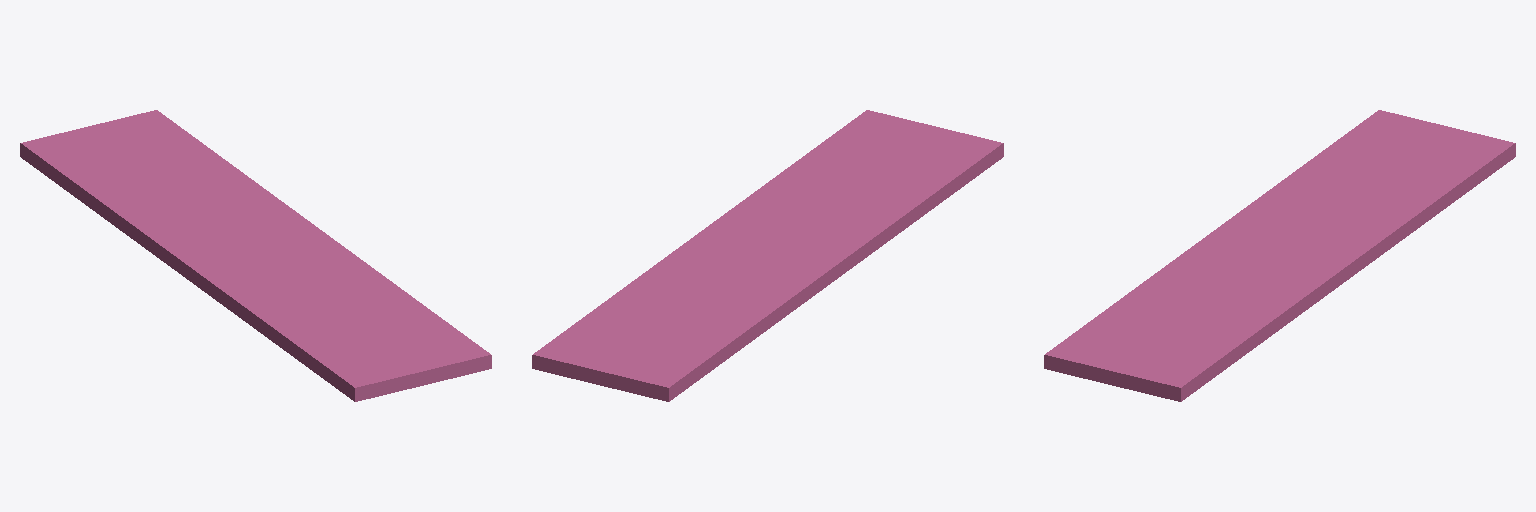
The robot description file, URDF, robot "robotiq_gripper":
<?xml version="1.0" ?>
<!-- =================================================================================== -->
<!-- |    This document was autogenerated by xacro from ros2_mara_ws/src/robotiq_modular_gripper/robotiq_140_gripper_description/urdf/robotiq_140_world.urdf.xacro | -->
<!-- |    EDITING THIS FILE BY HAND IS NOT RECOMMENDED                                 | -->
<!-- =================================================================================== -->
<robot name="robotiq_gripper">
 <!-- control -->
  <link name="base_link">
    <inertial>
      <mass value="0" />
      <inertia ixx = "0" ixy = "0" ixz = "0"
               iyx = "0" iyy = "0" iyz = "0"
               izx = "0" izy = "0" izz = "0" />
    </inertial>
  </link>

  <joint name="center_x" type="prismatic">
    <parent link="base_link"/>
    <child link="y_control"/>
    <axis xyz="1 0 0"/>
    <limit effort="1000.0" lower="-0.5" upper="0.5" velocity="0.2"/>
  </joint>

  <link name="y_control">
    <inertial>
      <mass value="0.1" />
      <inertia ixx = "0" ixy = "0" ixz = "0"
               iyx = "0" iyy = "0" iyz = "0"
               izx = "0" izy = "0" izz = "0" />
    </inertial>
  </link>

  <joint name="center_y" type="prismatic">
    <parent link="y_control"/>
    <child link="z_control"/>
    <axis xyz="0 1 0"/>
    <limit effort="1000.0" lower="-0.5" upper="0.5" velocity="0.2"/>
  </joint>

  <link name="z_control">
    <inertial>
      <mass value="0.1" />
      <inertia ixx = "0" ixy = "0" ixz = "0"
               iyx = "0" iyy = "0" iyz = "0"
               izx = "0" izy = "0" izz = "0" />
    </inertial>
  </link>

  <joint name="center_z" type="prismatic">
    <parent link="z_control"/>
    <child link="yaw_control"/>
    <axis xyz="0 0 1"/>
    <limit effort="1000.0" lower="-0.25" upper="1" velocity="0.2"/>
  </joint>

  <link name="yaw_control">
    <inertial>
      <mass value="0.1" />
      <inertia ixx = "0" ixy = "0" ixz = "0"
               iyx = "0" iyy = "0" iyz = "0"
               izx = "0" izy = "0" izz = "0" />
    </inertial>
  </link>

  <joint name="gripper_yaw" type="revolute">
    <parent link="yaw_control"/>
    <child link="pitch_control"/>
    <axis xyz="0 0 1"/>
    <limit lower="-31.4" upper="31.4" velocity="3.14" effort="10000"/>

  </joint>

  <link name="pitch_control">
    <inertial>
      <mass value="0.1" />
      <inertia ixx = "0" ixy = "0" ixz = "0"
               iyx = "0" iyy = "0" iyz = "0"
               izx = "0" izy = "0" izz = "0" />
    </inertial>
  </link>

  <joint name="gripper_pitch" type="revolute">
    <parent link="pitch_control"/>
    <child link="roll_control"/>
    <axis xyz="0 1 0"/>
    <limit lower="-31.4" upper="31.4" velocity="3.14" effort="10000"/>

  </joint>

  <link name="roll_control">
    <inertial>
      <mass value="0.1" />
      <inertia ixx = "0" ixy = "0" ixz = "0"
               iyx = "0" iyy = "0" iyz = "0"
               izx = "0" izy = "0" izz = "0" />
    </inertial>
  </link>

  <joint name="gripper_roll" type="revolute">
    <parent link="roll_control"/>
    <child link="dummy_center_indicator_link"/>
    <axis xyz="1 0 0"/>
    <limit lower="-31.4" upper="31.4" velocity="3.14" effort="100000"/>
  </joint>

  <link name="dummy_center_indicator_link">
    <visual>
      <geometry>
        <box size="0.020 0.085 0.002"/>
      </geometry>
    </visual>
    <inertial>
      <mass value="0.1" />
      <inertia ixx = "0" ixy = "0" ixz = "0"
               iyx = "0" iyy = "0" iyz = "0"
               izx = "0" izy = "0" izz = "0" />
    </inertial>
  </link>

  <joint name="dummy_center_fixed_joint" type="fixed">
    <parent link="dummy_center_indicator_link"/>
    <child link="robotiq_140_robotiq_arg2f_base_link"/>
    <origin xyz="-0.137 0 0" />
  </joint>
  <!-- robot -->
  <!-- robotiq_85_base_link -->
  <link name="robotiq_140_robotiq_arg2f_base_link">
    <inertial>
      <origin rpy="0 0 0" xyz="-0.00013 0.00011 0.03284"/>
      <mass value="0.52954"/>
      <inertia ixx="573495E-9" ixy="-554E-9" ixz="2628E-9" iyy="681780E-9" iyz="607E-9" izz="483281E-9"/>
    </inertial>
    <visual>
      <origin rpy="0 0 0" xyz="0 0 0"/>
      <geometry>
        <mesh filename="package://robotiq_140_gripper_description/meshes/GRIPPER_base_axis.dae" scale="0.001 0.001 0.001"/>
      </geometry>
      <material name="Gazebo/Black">
        <color rgba="0.1 0.1 0.1 1"/>
      </material>
    </visual>
    <collision>
      <origin rpy="0 0 0" xyz="0 0 0"/>
      <geometry>
        <mesh filename="package://robotiq_140_gripper_description/meshes/GRIPPER_base_axis.dae" scale="0.001 0.001 0.001"/>
      </geometry>
    </collision>
  </link>
  <gazebo reference="robotiq_140_robotiq_arg2f_base_link">
    <material>Gazebo/Black</material>
    <selfCollide>True</selfCollide>
  </gazebo>
  <!-- robotiq_85_left_knuckle_link -->
  <link name="robotiq_140_left_outer_knuckle">
    <inertial>
      <origin rpy="0 0 0" xyz="0.01616 0 -0.00133"/>
      <mass value="0.0131"/>
      <inertia ixx="325.5E-9" ixy="0" ixz="197.94E-9" iyy="2306.36E-9" iyz="0" izz="2176E-9"/>
    </inertial>
    <visual>
      <origin rpy="0 0 0" xyz="0 0 0"/>
      <geometry>
        <mesh filename="package://robotiq_140_gripper_description/meshes/robotiq_140_left_outer_knuckle.dae" scale="0.001 0.001 0.001"/>
      </geometry>
      <material name="">
        <color rgba="0.792156862745098 0.819607843137255 0.933333333333333 1"/>
      </material>
    </visual>
    <collision>
      <origin rpy="0 0 0" xyz="0 0 0"/>
      <geometry>
        <mesh filename="package://robotiq_140_gripper_description/meshes/robotiq_140_left_outer_knuckle.dae" scale="0.001 0.001 0.001"/>
      </geometry>
    </collision>
  </link>
  <gazebo reference="robotiq_140_left_outer_knuckle">
    <material>Gazebo/Grey</material>
    <selfCollide>True</selfCollide>
  </gazebo>
  <!-- robotiq_85_right_knuckle_link -->
  <link name="robotiq_140_right_outer_knuckle">
    <inertial>
      <origin rpy="0 0 0" xyz="-0.01616 0 -0.00133"/>
      <mass value="0.0131"/>
      <inertia ixx="325.5E-9" ixy="0" ixz="-197.94E-9" iyy="2306.36E-9" iyz="0" izz="2176E-9"/>
    </inertial>
    <visual>
      <origin rpy="0 0 0" xyz="0 0 0"/>
      <geometry>
        <mesh filename="package://robotiq_140_gripper_description/meshes/robotiq_140_right_outer_knuckle.dae" scale="0.001 0.001 0.001"/>
      </geometry>
      <material name="">
        <color rgba="0.792156862745098 0.819607843137255 0.933333333333333 1"/>
      </material>
    </visual>
    <collision>
      <origin rpy="0 0 0" xyz="0 0 0"/>
      <geometry>
        <mesh filename="package://robotiq_140_gripper_description/meshes/robotiq_140_right_outer_knuckle.dae" scale="0.001 0.001 0.001"/>
      </geometry>
    </collision>
  </link>
  <gazebo reference="robotiq_140_right_outer_knuckle">
    <material>Gazebo/Grey</material>
    <selfCollide>True</selfCollide>
  </gazebo>
  <!-- robotiq_85_left_inner_knuckle_link -->
  <link name="robotiq_140_left_inner_knuckle">
    <inertial>
      <origin rpy="0 0 0" xyz="0.03332 0 0.0379"/>
      <mass value="0.04476"/>
      <inertia ixx="28054E-9" ixy="0" ixz="-19174E-9" iyy="39758E-9" iyz="0" izz="23453E-9"/>
    </inertial>
    <visual>
      <origin rpy="0 0 0" xyz="0 0 0"/>
      <geometry>
        <mesh filename="package://robotiq_140_gripper_description/meshes/robotiq_140_left_inner_knuckle.dae" scale="0.001 0.001 0.001"/>
      </geometry>
      <material name="Gazebo/Black">
        <color rgba="0.1 0.1 0.1 1"/>
      </material>
    </visual>
    <collision>
      <origin rpy="0 0 0" xyz="0 0 0"/>
      <geometry>
        <mesh filename="package://robotiq_140_gripper_description/meshes/robotiq_140_left_inner_knuckle.dae" scale="0.001 0.001 0.001"/>
      </geometry>
    </collision>
  </link>
  <gazebo reference="robotiq_140_left_inner_knuckle">
    <material>Gazebo/Black</material>
    <selfCollide>False</selfCollide>
  </gazebo>
  <!-- robotiq_85_right_inner_knuckle_link -->
  <link name="robotiq_140_right_inner_knuckle">
    <inertial>
      <origin rpy="0 0 0" xyz="-0.03332 0 0.0379"/>
      <mass value="0.04476"/>
      <inertia ixx="28054E-9" ixy="0" ixz="19174E-9" iyy="39758E-9" iyz="0" izz="23453E-9"/>
    </inertial>
    <visual>
      <origin rpy="0 0 0" xyz="0 0 0"/>
      <geometry>
        <mesh filename="package://robotiq_140_gripper_description/meshes/robotiq_140_right_inner_knuckle.dae" scale="0.001 0.001 0.001"/>
      </geometry>
      <material name="Gazebo/Black">
        <color rgba="0.1 0.1 0.1 1"/>
      </material>
    </visual>
    <collision>
      <origin rpy="0 0 0" xyz="0 0 0"/>
      <geometry>
        <mesh filename="package://robotiq_140_gripper_description/meshes/robotiq_140_right_inner_knuckle.dae" scale="0.001 0.001 0.001"/>
      </geometry>
    </collision>
  </link>
  <gazebo reference="robotiq_140_right_inner_knuckle">
    <material>Gazebo/Black</material>
    <selfCollide>False</selfCollide>
  </gazebo>
  <!-- robotiq_85_left_finger_link -->
  <link name="robotiq_140_left_inner_finger">
    <inertial>
      <origin rpy="0 0 0" xyz="-0.01563 0 0.02522"/>
      <mass value="0.045"/>
      <inertia ixx="26663E-9" ixy="0" ixz="5579E-9" iyy="28009E-9" iyz="0" izz="4368E-9"/>
    </inertial>
    <visual>
      <origin rpy="0 0 0" xyz="0 0 0"/>
      <geometry>
        <mesh filename="package://robotiq_140_gripper_description/meshes/robotiq_140_left_inner_finger.dae" scale="0.001 0.001 0.001"/>
      </geometry>
      <material name="Gazebo/Black">
        <color rgba="0.1 0.1 0.1 1"/>
      </material>
    </visual>
    <collision>
      <origin rpy="0 0 0" xyz="0 0 0"/>
      <geometry>
        <mesh filename="package://robotiq_140_gripper_description/meshes/robotiq_140_left_inner_finger.dae" scale="0.001 0.001 0.001"/>
      </geometry>
    </collision>
  </link>
  <gazebo reference="robotiq_140_left_inner_finger">
    <material>Gazebo/Black</material>
    <selfCollide>False</selfCollide>
  </gazebo>
  <!-- robotiq_85_right_finger_link -->
  <link name="robotiq_140_right_inner_finger">
    <inertial>
      <origin rpy="0 0 0" xyz="0.01563 0 0.02522"/>
      <mass value="0.045"/>
      <inertia ixx="26663E-9" ixy="0" ixz="-5579E-9" iyy="28009E-9" iyz="0" izz="4368E-9"/>
    </inertial>
    <visual>
      <origin rpy="0 0 0" xyz="0 0 0"/>
      <geometry>
        <mesh filename="package://robotiq_140_gripper_description/meshes/robotiq_140_right_inner_finger.dae" scale="0.001 0.001 0.001"/>
      </geometry>
      <material name="Gazebo/Black">
        <color rgba="0.1 0.1 0.1 1"/>
      </material>
    </visual>
    <collision>
      <origin rpy="0 0 0" xyz="0 0 0"/>
      <geometry>
        <mesh filename="package://robotiq_140_gripper_description/meshes/robotiq_140_right_inner_finger.dae" scale="0.001 0.001 0.001"/>
      </geometry>
    </collision>
  </link>
  <gazebo reference="robotiq_140_right_inner_finger">
    <material>Gazebo/Black</material>
    <selfCollide>False</selfCollide>
  </gazebo>
  <!-- robot -->
  <link name="robotiq_140_left_outer_finger">
    <inertial>
      <origin rpy="0 0 0" xyz="0.01482 0 0.03451"/>
      <mass value="0.07637"/>
      <inertia ixx="45513E-9" ixy="0" ixz="-20691E-9" iyy="52570E-9" iyz="0" izz="17804E-9"/>
    </inertial>
    <visual>
      <origin rpy="0 0 0" xyz="0 0 0"/>
      <geometry>
        <mesh filename="package://robotiq_140_gripper_description/meshes/robotiq_140_left_outer_finger.dae" scale="0.001 0.001 0.001"/>
      </geometry>
      <material name="Gazebo/Black">
        <color rgba="0.1 0.1 0.1 1"/>
      </material>
    </visual>
    <collision>
      <origin rpy="0 0 0" xyz="0 0 0"/>
      <geometry>
        <mesh filename="package://robotiq_140_gripper_description/meshes/robotiq_140_left_outer_finger.dae" scale="0.001 0.001 0.001"/>
      </geometry>
    </collision>
  </link>
  <gazebo reference="robotiq_140_left_outer_finger">
    <material>Gazebo/Black</material>
    <selfCollide>True</selfCollide>
  </gazebo>
  <!-- robot -->
  <link name="robotiq_140_right_outer_finger">
    <inertial>
      <origin rpy="0 0 0" xyz="-0.01482 0 0.03451"/>
      <mass value="0.07637"/>
      <inertia ixx="45513E-9" ixy="0" ixz="20691E-9" iyy="52570E-9" iyz="0" izz="17804E-9"/>
    </inertial>
    <visual>
      <origin rpy="0 0 0" xyz="0 0 0"/>
      <geometry>
        <mesh filename="package://robotiq_140_gripper_description/meshes/robotiq_140_right_outer_finger.dae" scale="0.001 0.001 0.001"/>
      </geometry>
      <material name="Gazebo/Black">
        <color rgba="0.1 0.1 0.1 1"/>
      </material>
    </visual>
    <collision>
      <origin rpy="0 0 0" xyz="0 0 0"/>
      <geometry>
        <mesh filename="package://robotiq_140_gripper_description/meshes/robotiq_140_right_outer_finger.dae" scale="0.001 0.001 0.001"/>
      </geometry>
    </collision>
  </link>
  <gazebo reference="robotiq_140_right_outer_finger">
    <material>Gazebo/Black</material>
    <selfCollide>True</selfCollide>
  </gazebo>
  <!-- robot -->
  <joint name="robotiq_arg2f_base_to_robotiq_140_left_outer_knuckle" type="revolute">
    <origin rpy="0 0 0" xyz="0.0306 0 0.05466"/>
    <parent link="robotiq_140_robotiq_arg2f_base_link"/>
    <child link="robotiq_140_left_outer_knuckle"/>
    <axis xyz="0 -1 0"/>
    <limit effort="18.65" lower="0" upper="0.78574722925" velocity="2.0"/>
    <mimic joint="robotiq_140_joint_finger" multiplier="1" offset="0"/>
  </joint>
  <!-- robot -->
  <joint name="robotiq_140_joint_finger" type="revolute">
    <origin rpy="0 0 0" xyz="-0.0306 0 0.05466"/>
    <parent link="robotiq_140_robotiq_arg2f_base_link"/>
    <child link="robotiq_140_right_outer_knuckle"/>
    <axis xyz="0 1 0"/>
    <limit effort="18.65" lower="0" upper="0.78574722925" velocity="3.54"/>
  </joint>
  <!-- robot -->
  <joint name="robotiq_arg2f_base_to_robotiq_140_left_inner_knuckle" type="revolute">
    <origin rpy="0 0 0" xyz="0.0127 0 0.06118"/>
    <parent link="robotiq_140_robotiq_arg2f_base_link"/>
    <child link="robotiq_140_left_inner_knuckle"/>
    <axis xyz="0 -1 0"/>
    <limit effort="18.65" lower="0" upper="0.78574722925" velocity="3.54"/>
    <mimic joint="robotiq_140_joint_finger" multiplier="1" offset="0"/>
  </joint>
  <!-- robot -->
  <joint name="robotiq_arg2f_base_to_robotiq_140_right_inner_knuckle" type="revolute">
    <origin rpy="0 0 0" xyz="-0.0127 0 0.06118"/>
    <parent link="robotiq_140_robotiq_arg2f_base_link"/>
    <child link="robotiq_140_right_inner_knuckle"/>
    <axis xyz="0 1 0"/>
    <limit effort="18.65" lower="0" upper="0.78574722925" velocity="3.54"/>
    <mimic joint="robotiq_140_joint_finger" multiplier="1" offset="0"/>
  </joint>
  <!-- robot -->
  <joint name="robotiq_140_left_outer_knuckle_to_finger" type="fixed">
    <origin rpy="0 0 0" xyz="0.03142 0 -0.00453"/>
    <parent link="robotiq_140_left_outer_knuckle"/>
    <child link="robotiq_140_left_outer_finger"/>
  </joint>
  <!-- robot -->
  <joint name="robotiq_140_right_outer_knuckle_to_finger" type="fixed">
    <origin rpy="0 0 0" xyz="-0.03142 0 -0.00453"/>
    <parent link="robotiq_140_right_outer_knuckle"/>
    <child link="robotiq_140_right_outer_finger"/>
  </joint>
  <!-- robot -->
  <joint name="robotiq_140_left_outer_finger_to_inner" type="revolute">
    <origin rpy="0 0 0" xyz="0.03543 0 0.0789"/>
    <parent link="robotiq_140_left_outer_finger"/>
    <child link="robotiq_140_left_inner_finger"/>
    <axis xyz="0 1 0"/>
    <limit effort="18.65" lower="0" upper="0.78574722925" velocity="3.54"/>
    <mimic joint="robotiq_140_joint_finger" multiplier="1" offset="0"/>
  </joint>
  <!-- robot -->
  <joint name="robotiq_140_right_outer_finger_to_inner" type="revolute">
    <origin rpy="0 0 0" xyz="-0.03543 0 0.0789"/>
    <parent link="robotiq_140_right_outer_finger"/>
    <child link="robotiq_140_right_inner_finger"/>
    <axis xyz="0 -1 0"/>
    <limit effort="18.65" lower="0" upper="0.78574722925" velocity="3.54"/>
    <mimic joint="robotiq_140_joint_finger" multiplier="1" offset="0"/>
  </joint>
</robot>

--- Render facts (derived) ---
The picture shows the robot from 3 angles, left to right: view 1: azimuth 30°, elevation 25°; view 2: azimuth 150°, elevation 25°; view 3: azimuth 330°, elevation 25°; orthographic projection.
Model robotiq_gripper with 16 links and 15 joints (9 revolute, 3 prismatic, 3 fixed), rooted at base_link, posed every joint at zero.
Visible links, largest first — view 1: dummy_center_indicator_link; view 2: dummy_center_indicator_link; view 3: dummy_center_indicator_link.
Boxes of the visible links, x1,y1,x2,y2 form: dummy_center_indicator_link: (20, 110, 491, 401); dummy_center_indicator_link: (532, 110, 1003, 401); dummy_center_indicator_link: (1044, 110, 1515, 401).
Bounding box of the posed robot: 0.02 × 0.085 × 0.002 m (x, y, z).
0 mesh visuals loaded from 9 distinct referenced files (none loaded); not drawn: 9 (reference not matched to a file when rendering).